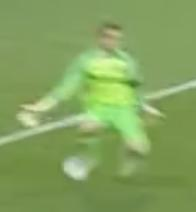goalkeeper: (14, 11, 176, 199)
